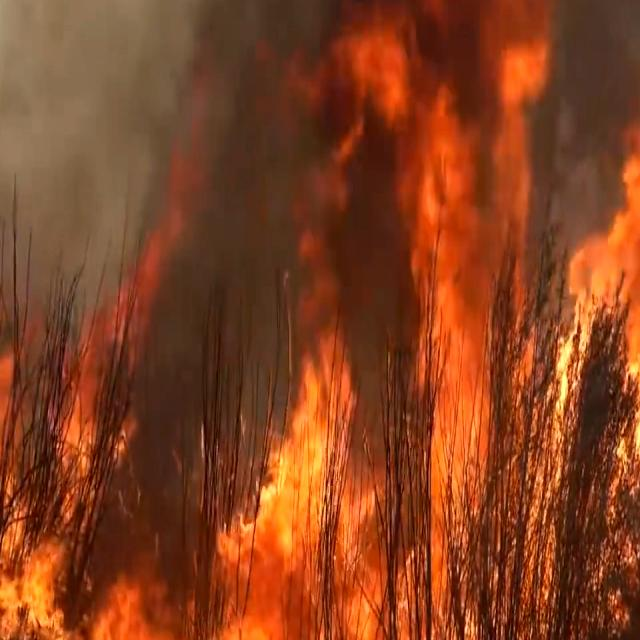fire: (332, 0, 550, 308), (232, 371, 445, 640), (568, 0, 640, 303)
smoke: (0, 0, 314, 220)
